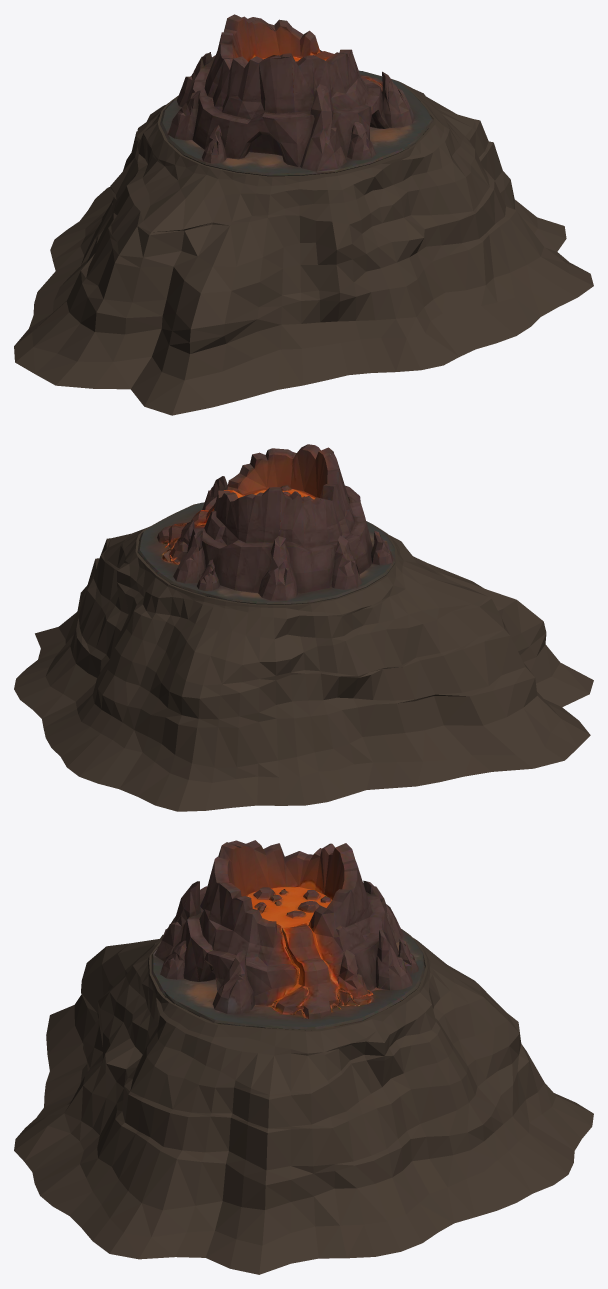
The model's file is volcano_b.glb.
3 views of the same model, one above another, from view 1: azimuth 30°, elevation 25°; view 2: azimuth 150°, elevation 25°; view 3: azimuth 270°, elevation 25° (orthographic). The views are drawn at different scales.
Parts seen in each view (by area): view 1: lod0; view 2: lod0; view 3: lod0.
Part boxes in pixels (x1,y1,x2,y2): lod0: (14,14,593,415); lod0: (14,444,593,811); lod0: (14,840,593,1274).
Size of what is drawn, in the model's own units: 4.76 by 2.08 by 3.98.
Materials: 1 (1 with a texture image).
